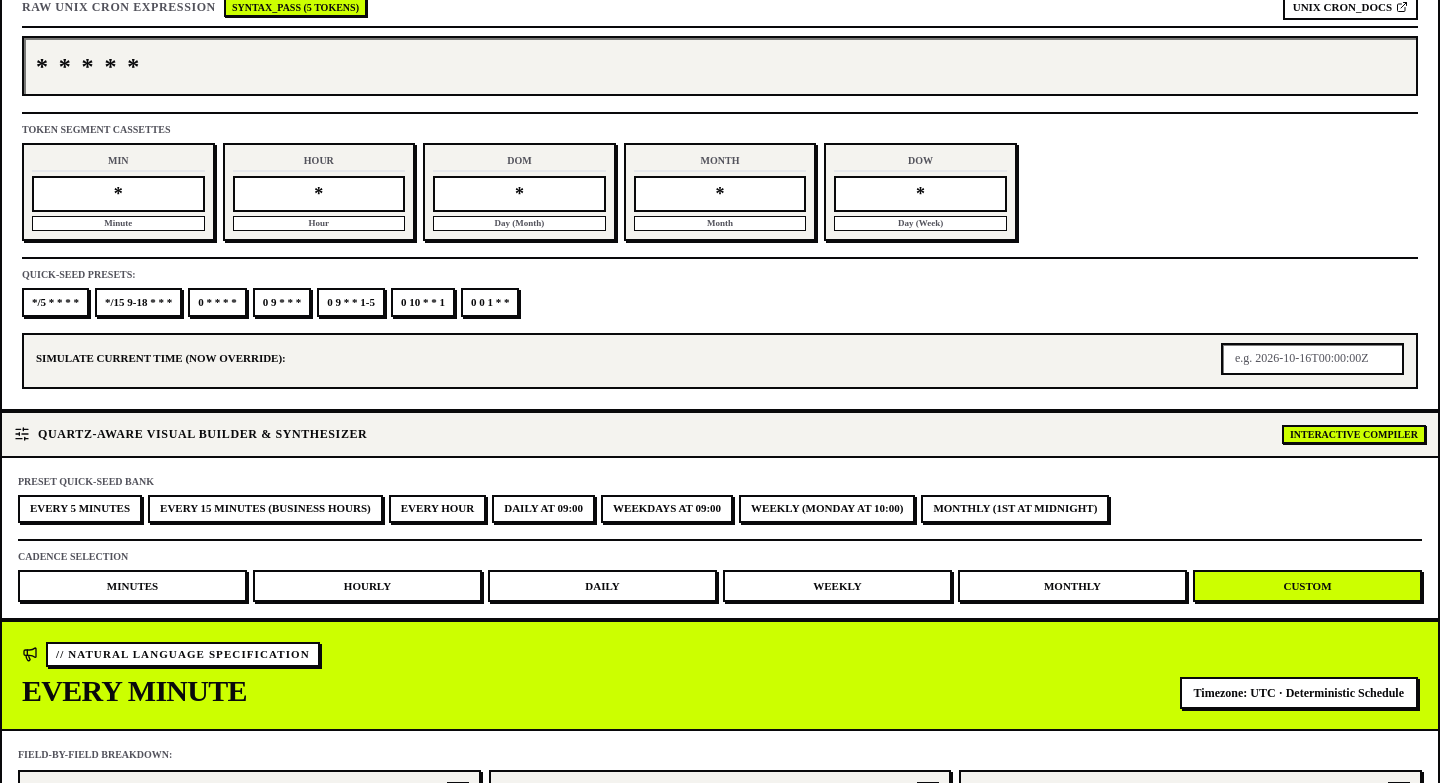
Test: Task 11: Panels (Builder, Explanation, Safety, Export, Share) › clicking preset-weekdays-at-9-00-am updates input and explanation-summary
Click the button with test id "preset-weekdays-at-9-00-am" at (667, 508), box [601,494,733,522]
(page scrolled)
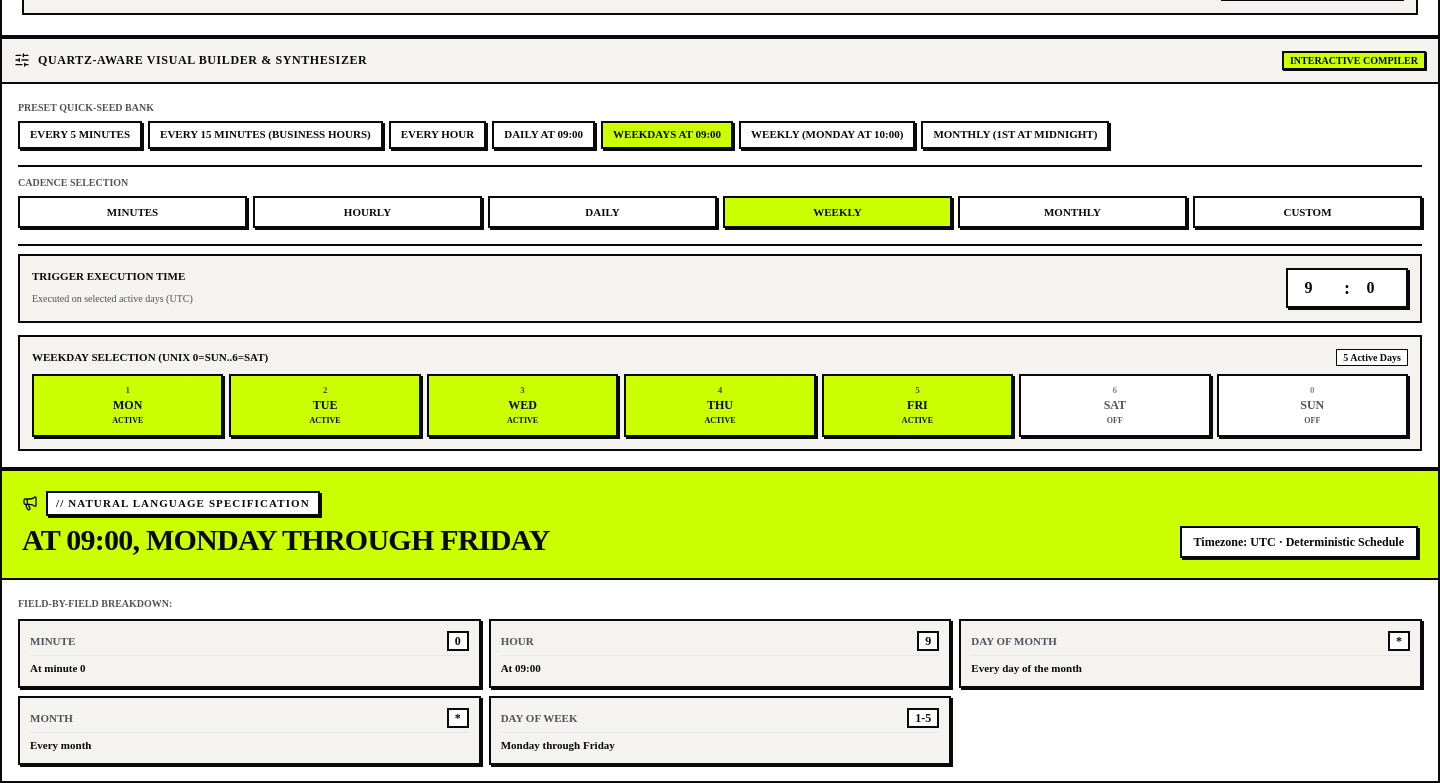
Result: the heading with test id "explanation-summary" reads "At 09:00, Monday through Friday" at [22,522,550,556]
